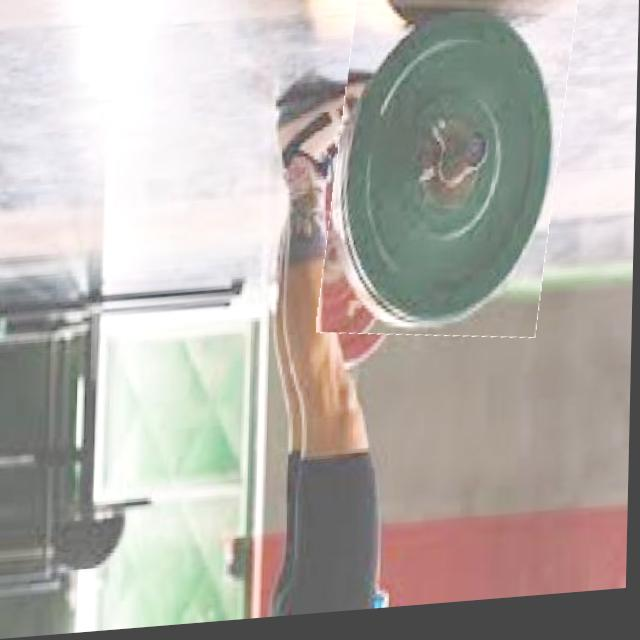barbell: (327, 1, 571, 356)
